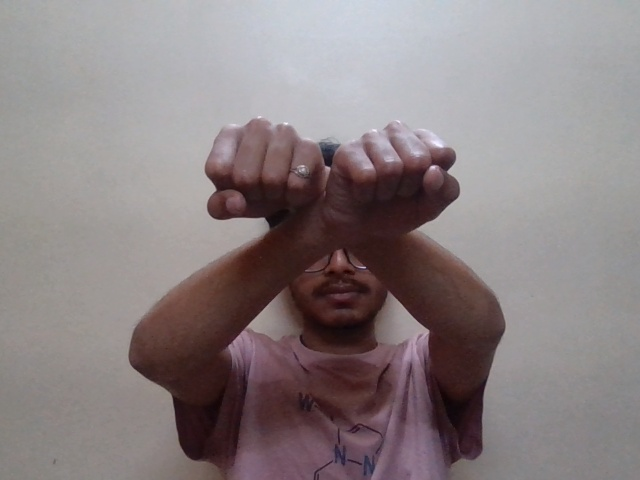work: (178, 87, 503, 282)
